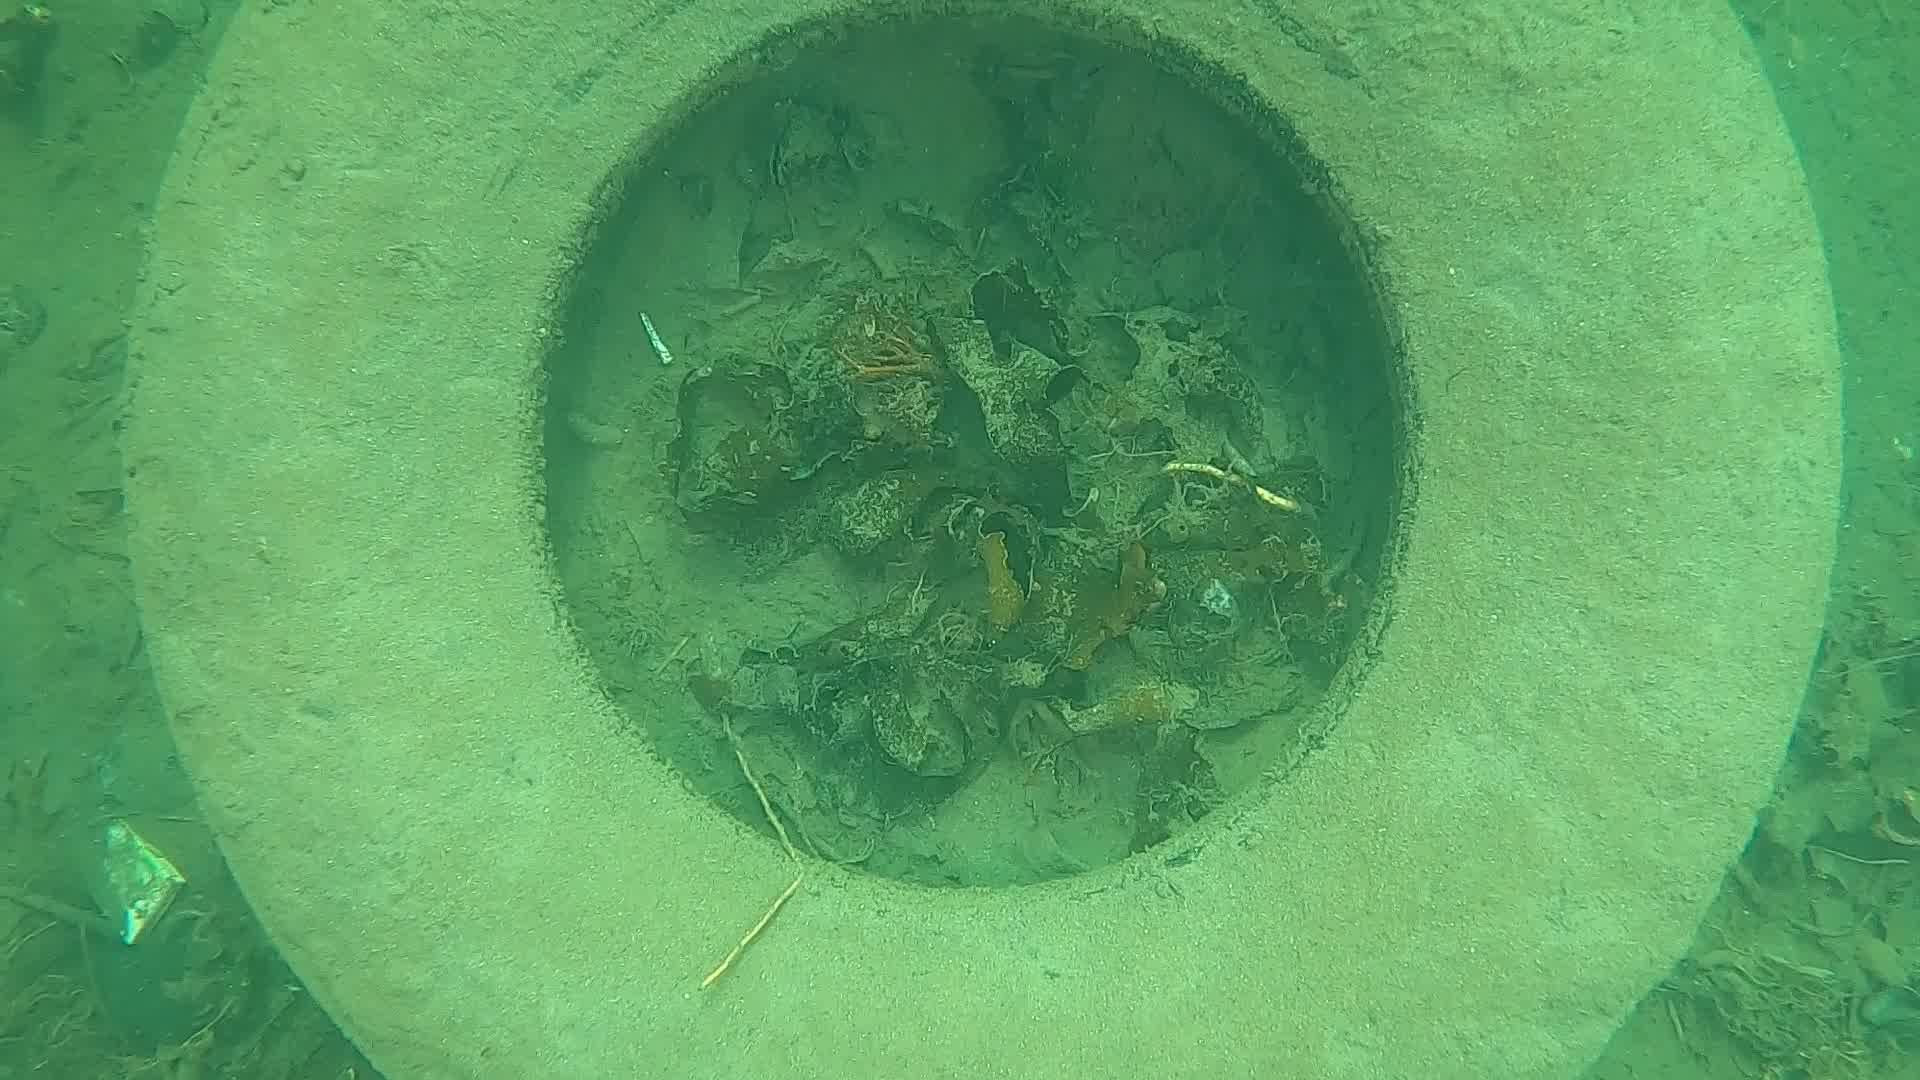tire: (113, 0, 1853, 1080)
